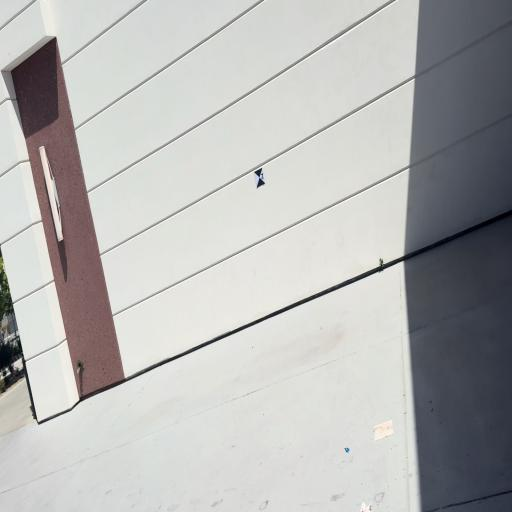target7: (255, 168, 266, 188)
